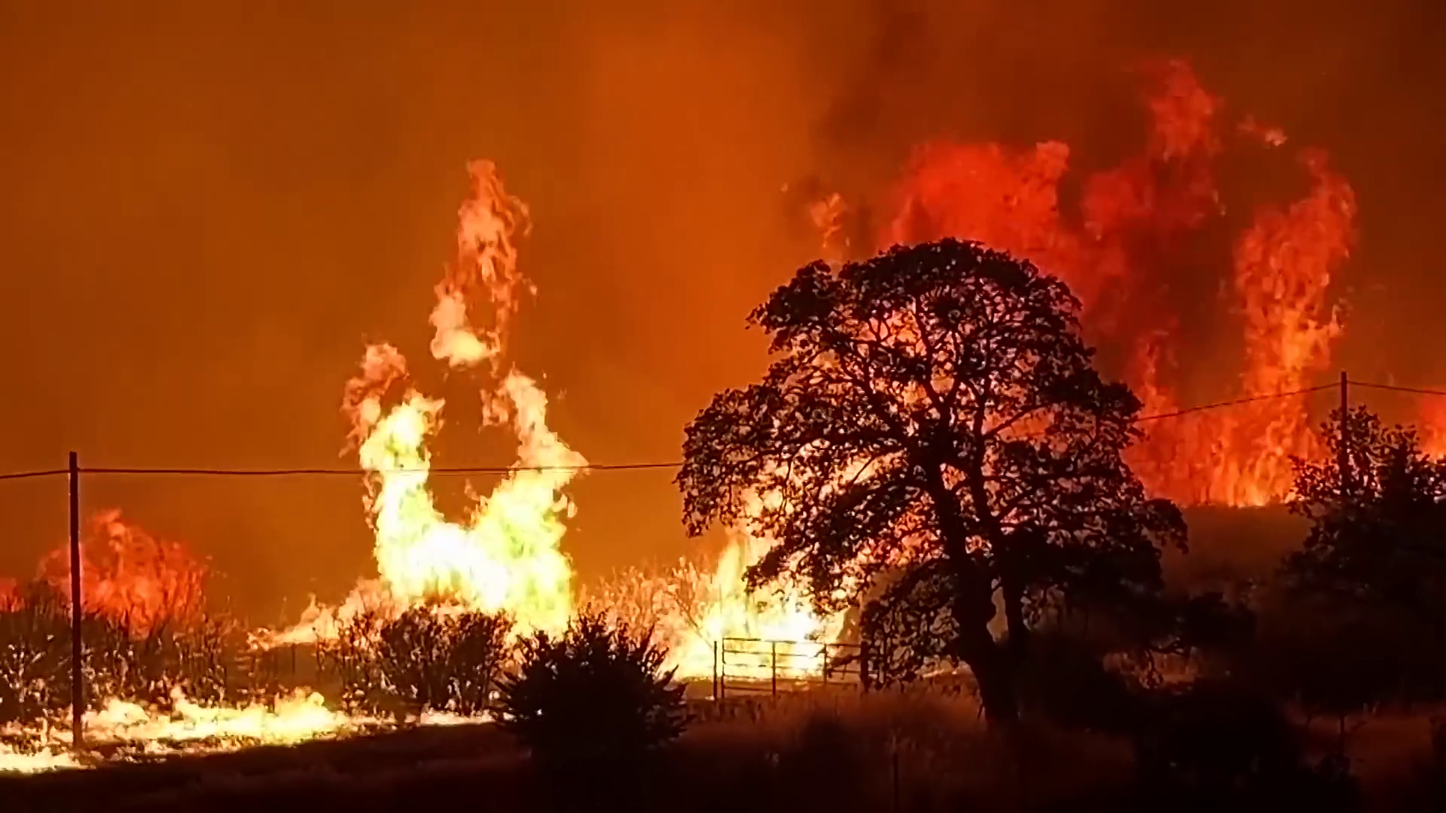forest_fire: (247, 344, 585, 653), (880, 67, 1218, 303), (593, 519, 850, 690), (1130, 339, 1313, 504), (1234, 169, 1354, 402), (431, 161, 526, 371), (82, 687, 379, 750), (82, 548, 203, 632), (0, 729, 81, 772), (417, 700, 489, 724)
